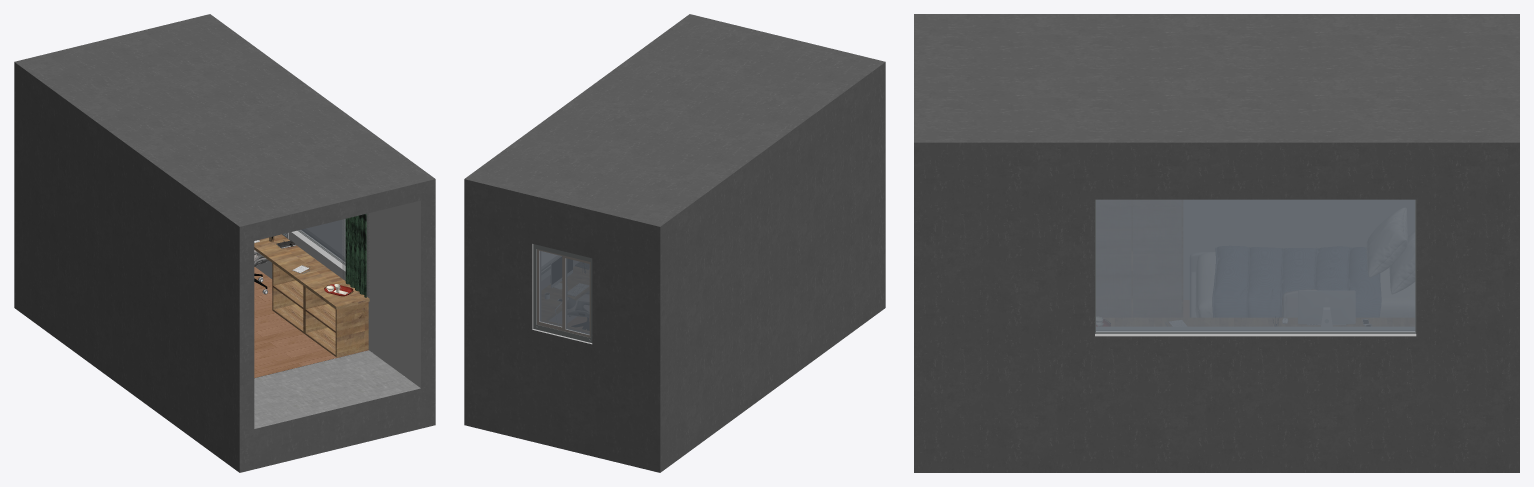
Rendered from room.glb.
3 views of the same model, side by side, from view 1: azimuth 30°, elevation 25°; view 2: azimuth 150°, elevation 25°; view 3: azimuth 270°, elevation 25° (orthographic). The views are drawn at different scales.
Visible parts, largest first — view 1: Material2 (×8), Material3; view 2: Material2 (×4); view 3: Material2 (×4).
Boxes of the visible parts, x1,y1,x2,y2 form: Material2 (×8): (14,14,435,472); Material3: (345,213,366,297); Material2 (×4): (464,14,885,472); Material2 (×4): (914,14,1519,472).
Bounding box in the file's own units: 120 × 144 × 240.
83 materials, 53 textured.
